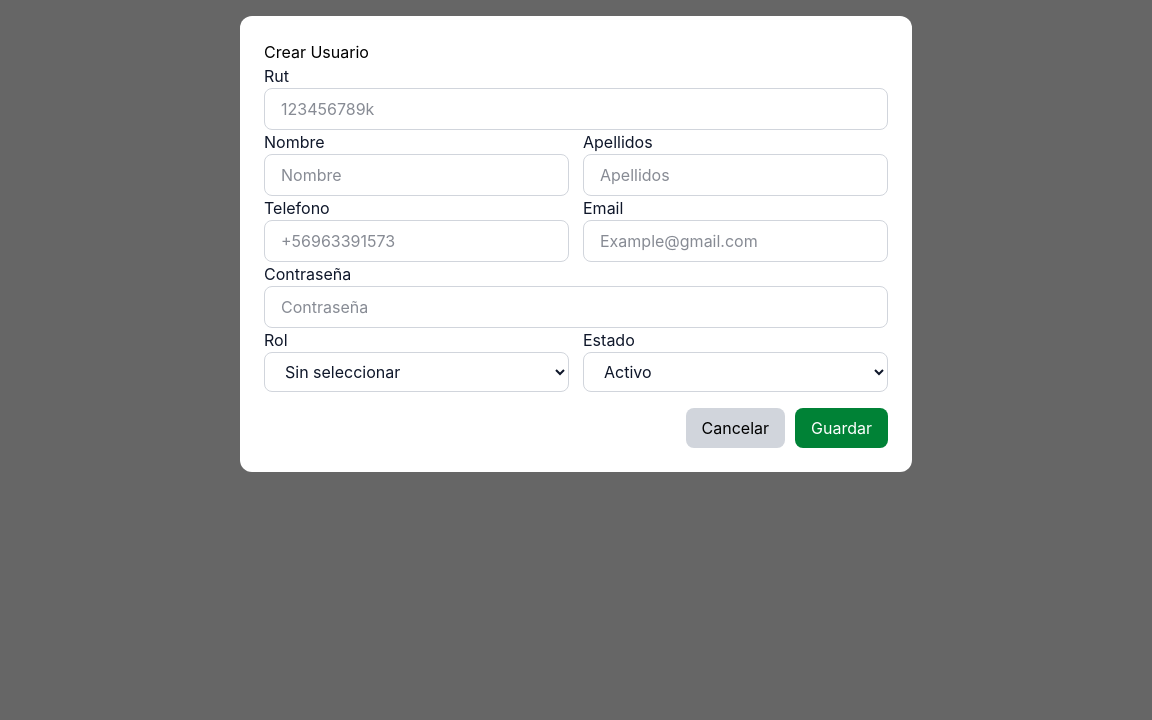
FormularioUsuario › Flujos de Nutricionista › despliega la sección de horarios al seleccionar el rol Nutricionista
The width and height of the screenshot is (1152, 720).
Step 1. Select "Nutricionista" in the dropdown labelled "Rol" → (416, 372), box [264,352,569,392]
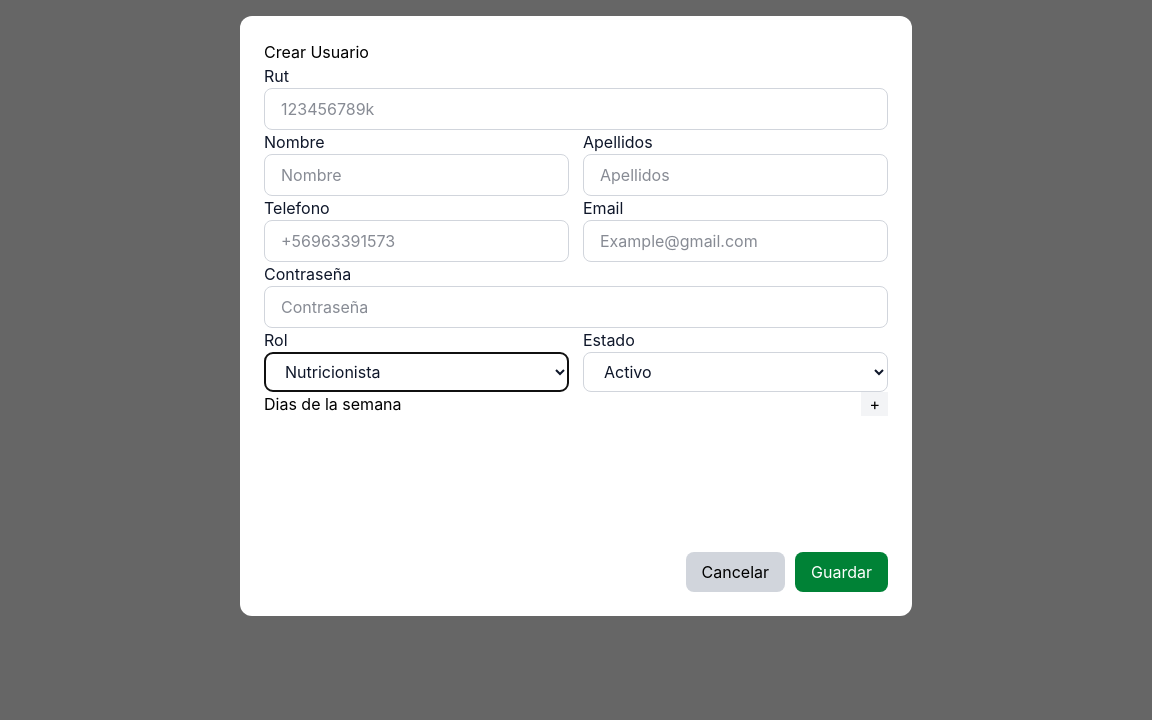
expect the heading "Dias de la semana" is shown: met, box [264,392,402,416]
